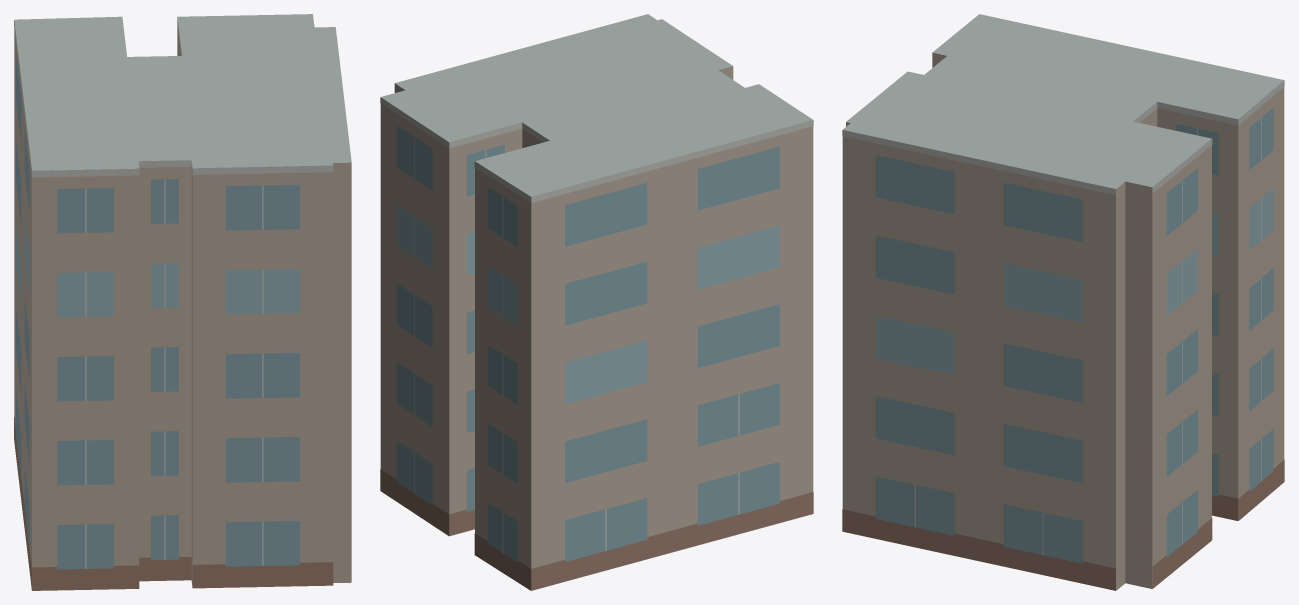
Rendered from survey-upis-32990839.glb.
3 renders of one model, left to right at view 1: azimuth 30°, elevation 25°; view 2: azimuth 150°, elevation 25°; view 3: azimuth 270°, elevation 25°, orthographic. The views are drawn at different scales.
Parts seen in each view (by area): view 1: survey-upis-32990839.tmp; view 2: survey-upis-32990839.tmp; view 3: survey-upis-32990839.tmp.
Boxes of the visible parts, bbox=[...] form: survey-upis-32990839.tmp: bbox=[14, 14, 351, 590]; survey-upis-32990839.tmp: bbox=[380, 14, 813, 590]; survey-upis-32990839.tmp: bbox=[842, 14, 1284, 590].
Size of the model in its own units: 14.49 by 15.49 by 15.45.
